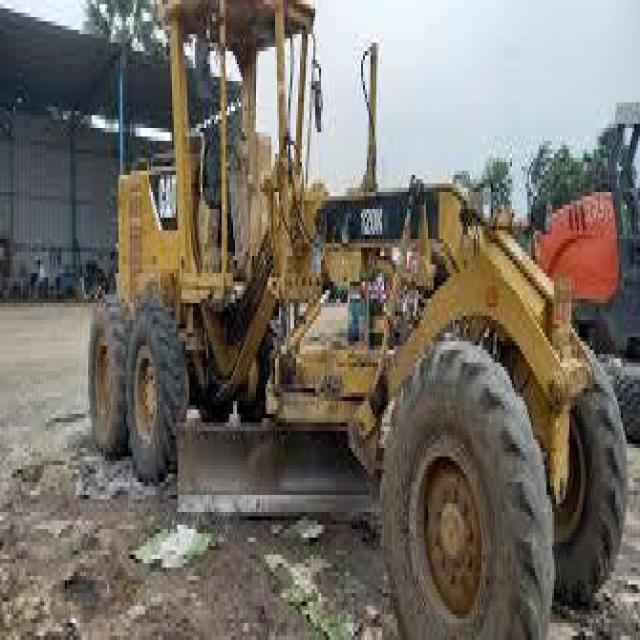Grader: (77, 13, 630, 636)
